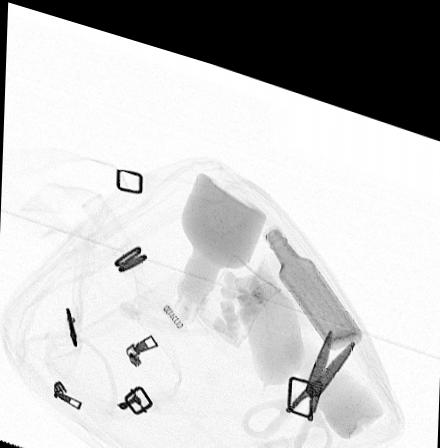Scissors: (239, 305, 356, 442)
